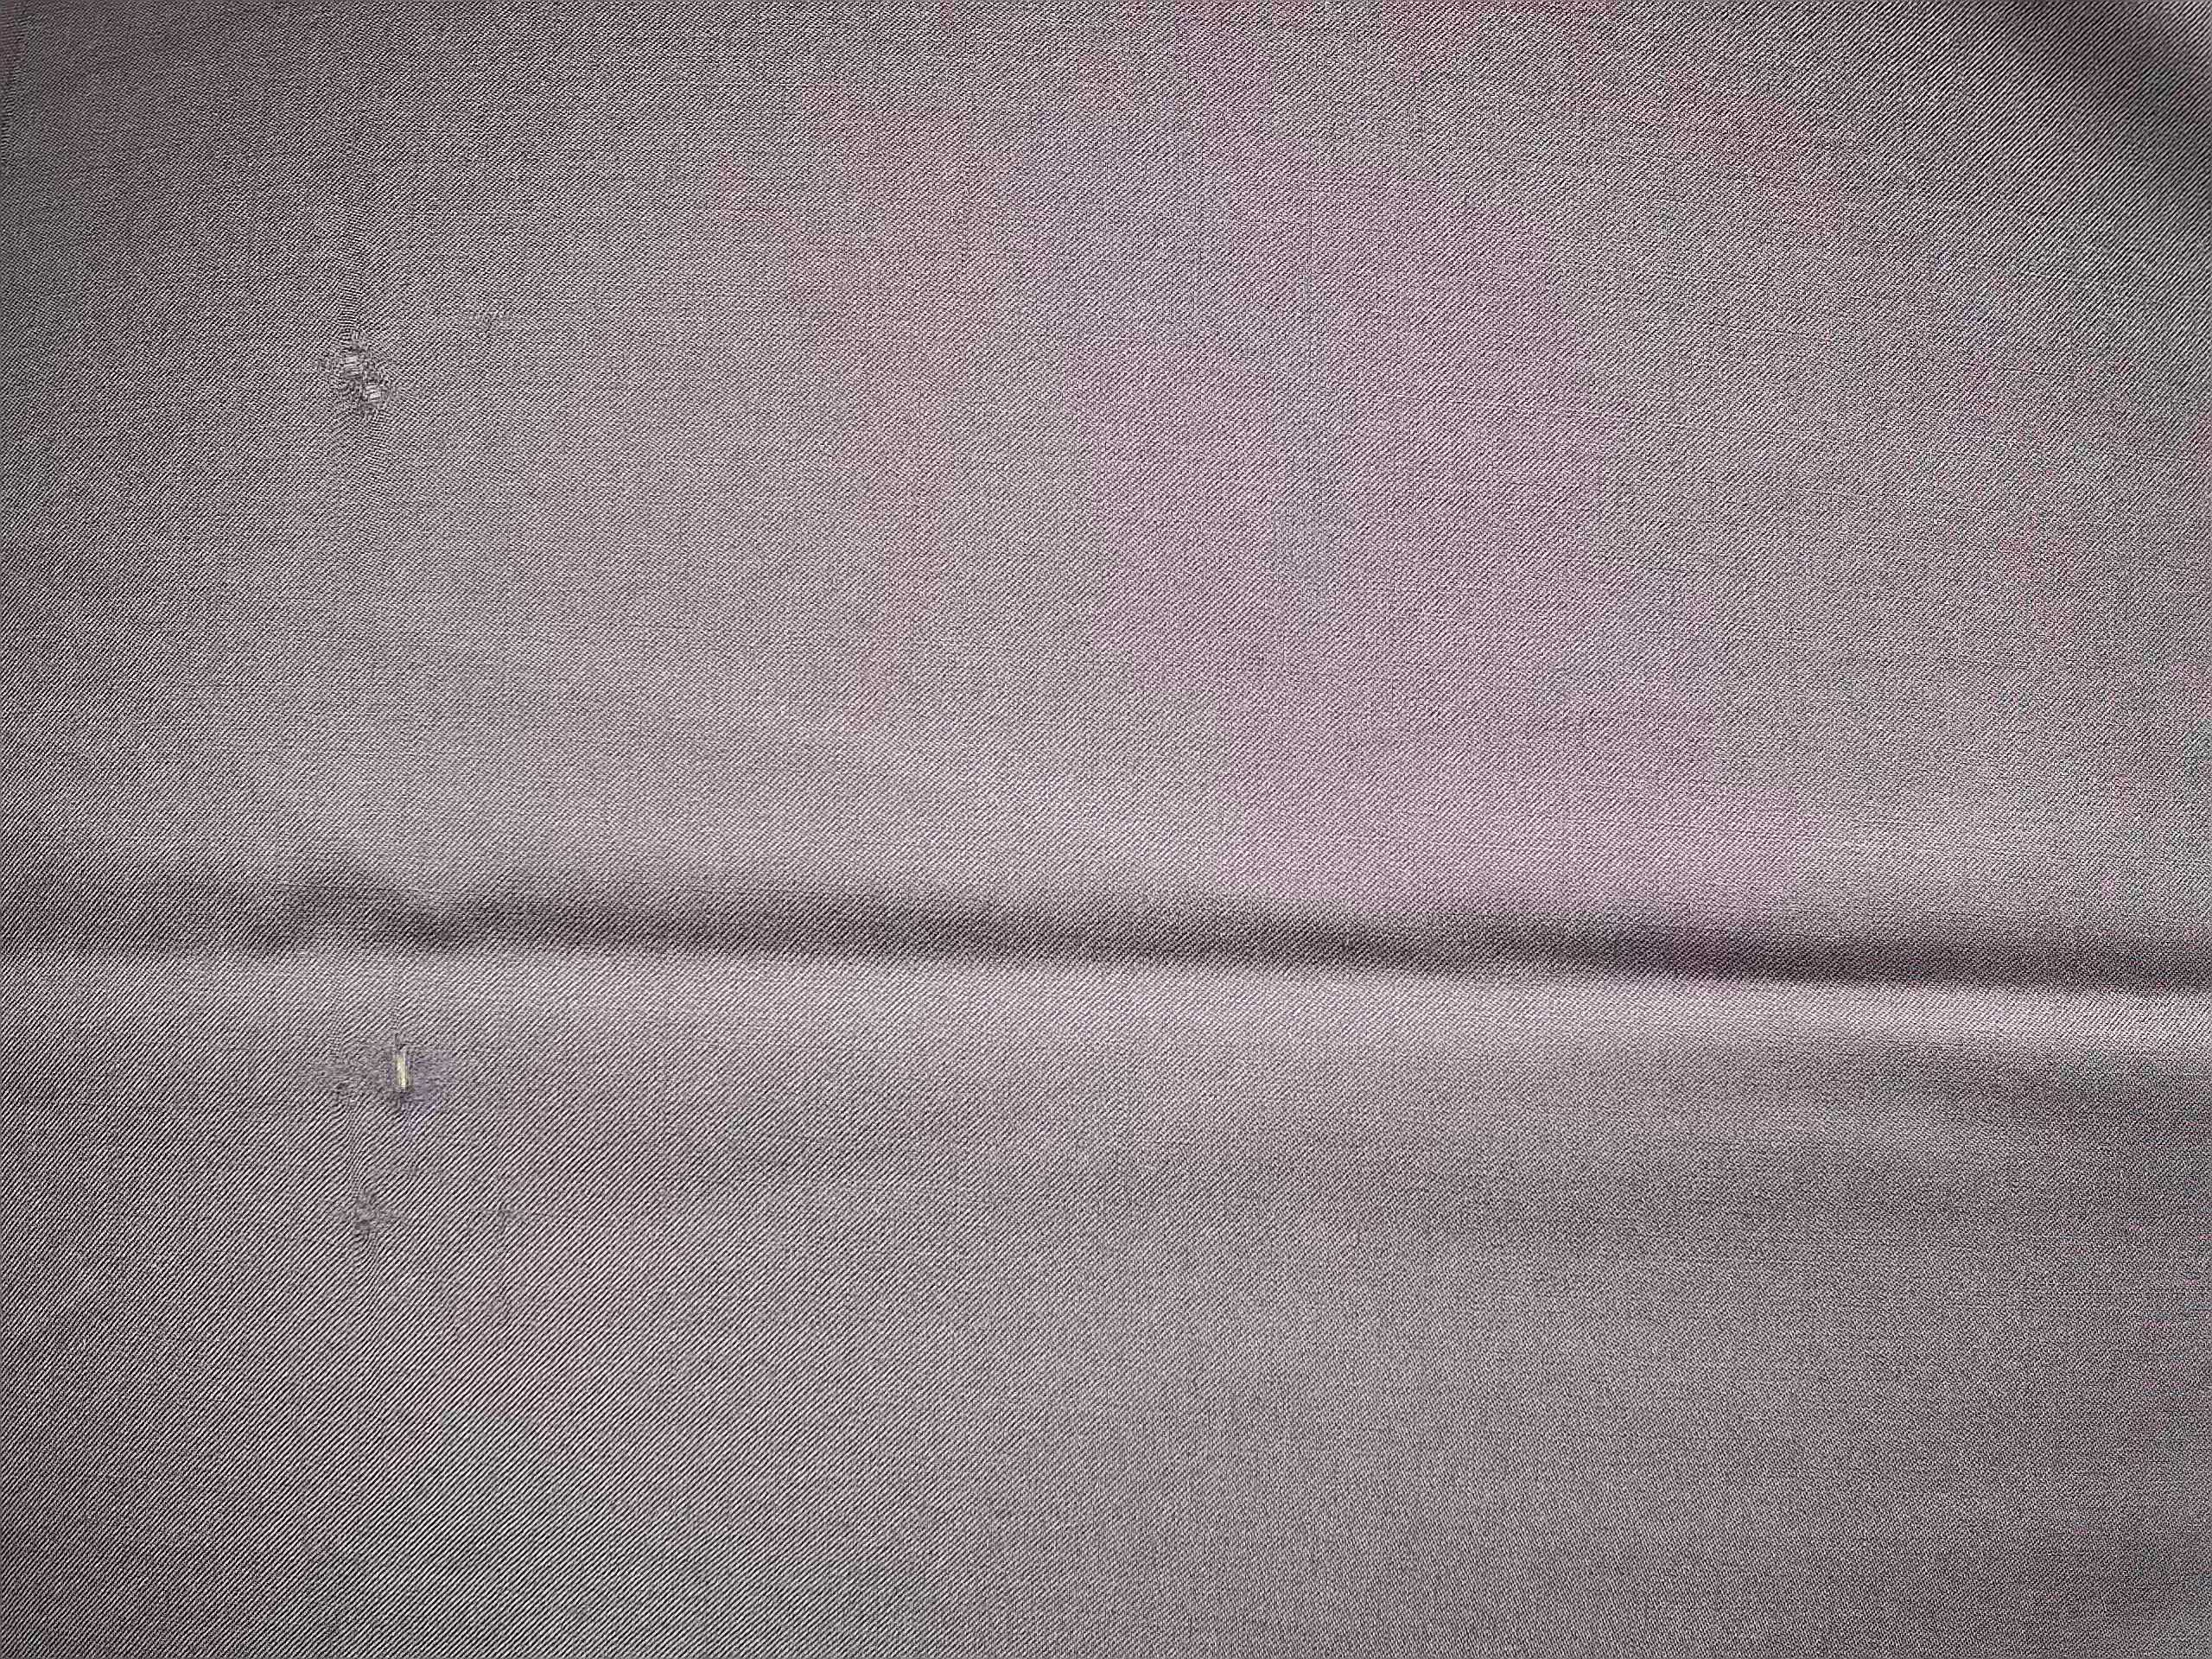rubbing-hole: (324, 1016, 437, 1258), (314, 277, 408, 443), (463, 291, 524, 350)
